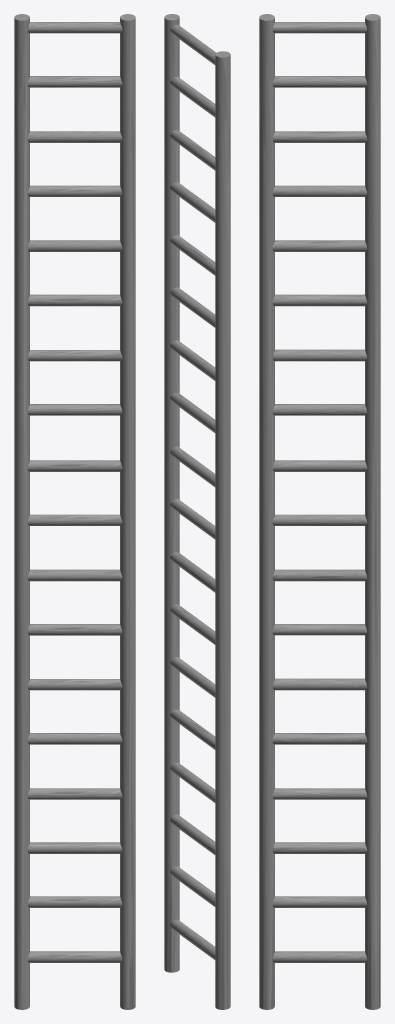
Rendered from Ladder.fbx.
3 views of the same model, side by side, from view 1: azimuth 90°, elevation 25°; view 2: azimuth 210°, elevation 25°; view 3: azimuth 270°, elevation 25° (orthographic). The views are drawn at different scales.
Parts seen in each view (by area): view 1: Scaffold_3; view 2: Scaffold_3; view 3: Scaffold_3.
Part boxes in pixels (x1=…): Scaffold_3: x1=14, y1=14, x2=135, y2=1009; Scaffold_3: x1=164, y1=14, x2=230, y2=1009; Scaffold_3: x1=259, y1=14, x2=380, y2=1009.
Bounding box in the file's own units: 10.72 × 730 × 81.17.
1 material, 1 textured.
